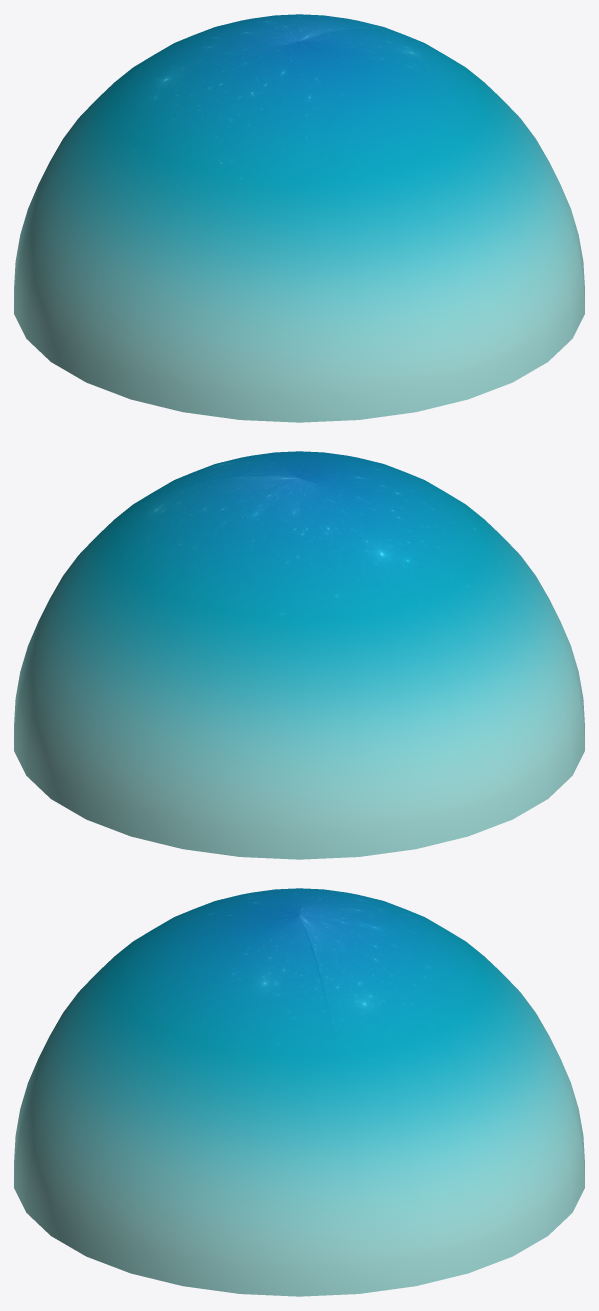
The model's file is Sky.fbx.
3 renders of one model, top to bottom at view 1: azimuth 30°, elevation 25°; view 2: azimuth 150°, elevation 25°; view 3: azimuth 270°, elevation 25°, orthographic.
Parts seen in each view (by area): view 1: pSphere1; view 2: pSphere1; view 3: pSphere1.
Boxes of the visible parts, x1,y1,x2,y2 form: pSphere1: (14,14,584,422); pSphere1: (14,451,584,859); pSphere1: (14,888,584,1296).
Bounding box in the file's own units: 2048 × 1024 × 2037.
1 material, 1 textured.
